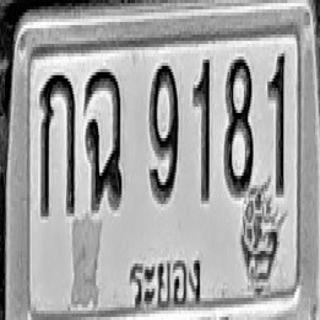A01: (40, 72, 75, 216)
A09: (84, 67, 122, 209)
N01: (266, 50, 285, 194), (192, 58, 210, 202)
N08: (224, 55, 253, 196)
N09: (149, 63, 178, 201)
P53: (123, 250, 207, 317)
